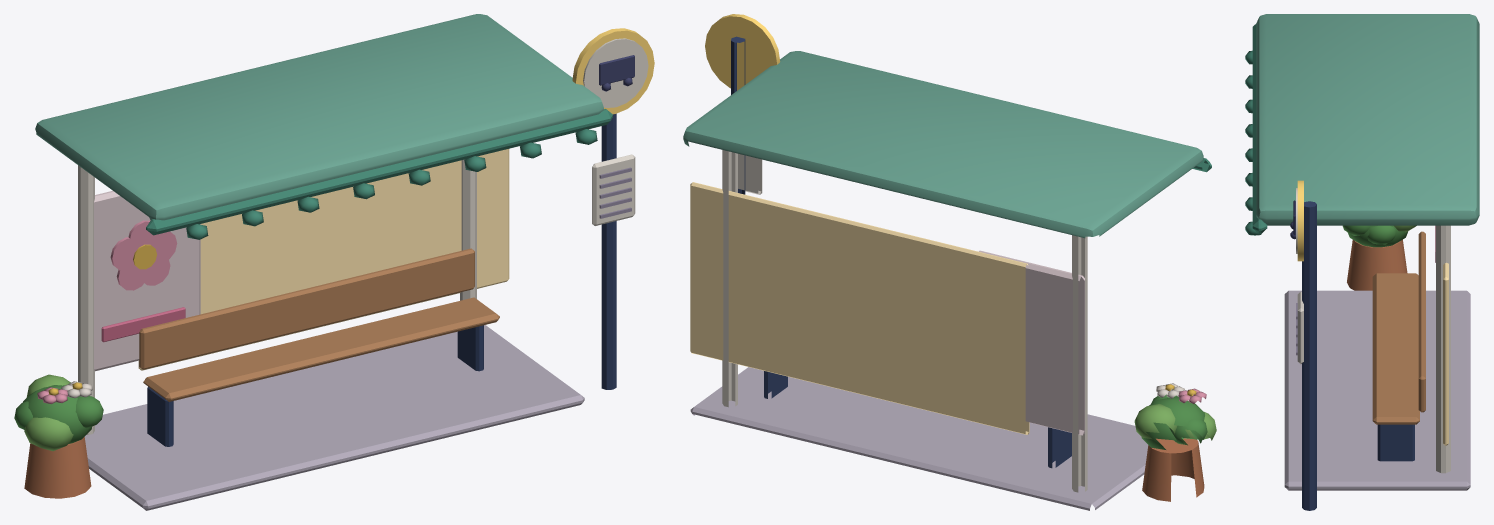
The model's file is ac_busstop.glb.
3 views of the same model, side by side, from view 1: azimuth 30°, elevation 25°; view 2: azimuth 150°, elevation 25°; view 3: azimuth 270°, elevation 25° (orthographic). The views are drawn at different scales.
Parts seen in each view (by area): view 1: body; view 2: body; view 3: body.
Part boxes in pixels (x1,y1,x2,y2): body: [14, 14, 654, 510]; body: [683, 14, 1216, 510]; body: [1245, 14, 1479, 510].
Bounding box in the file's own units: 4.94 × 2.88 × 1.89.
